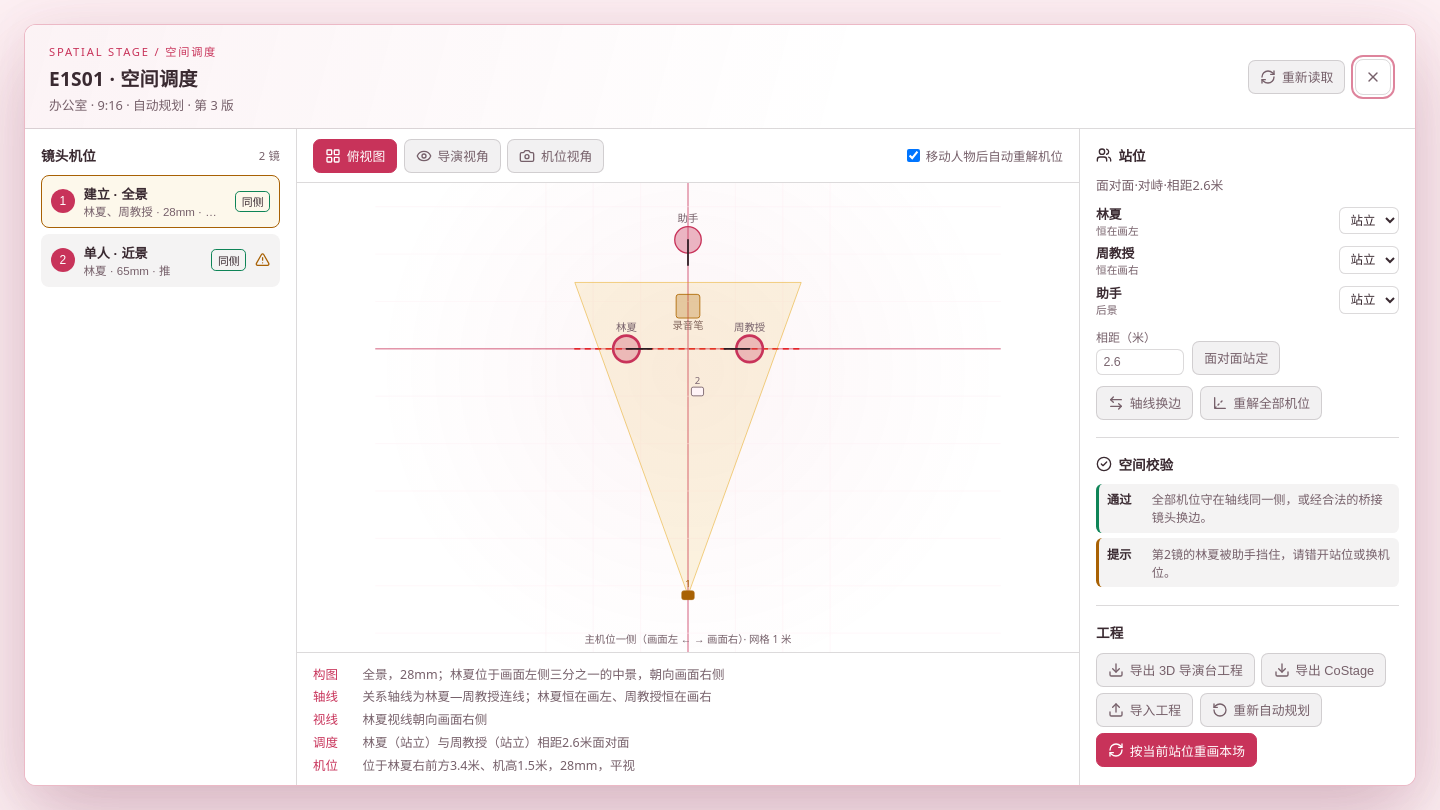
Test: SpatialStageDialog › sends semantic operations pinned to the revision it read
Expected: the picture named "E1S01 空间调度俯视图" is shown, 297,183 -> 1079,652
In the number field labelled "相距（米）": (1140, 362) 1096,349 -> 1184,375, type "1.2"
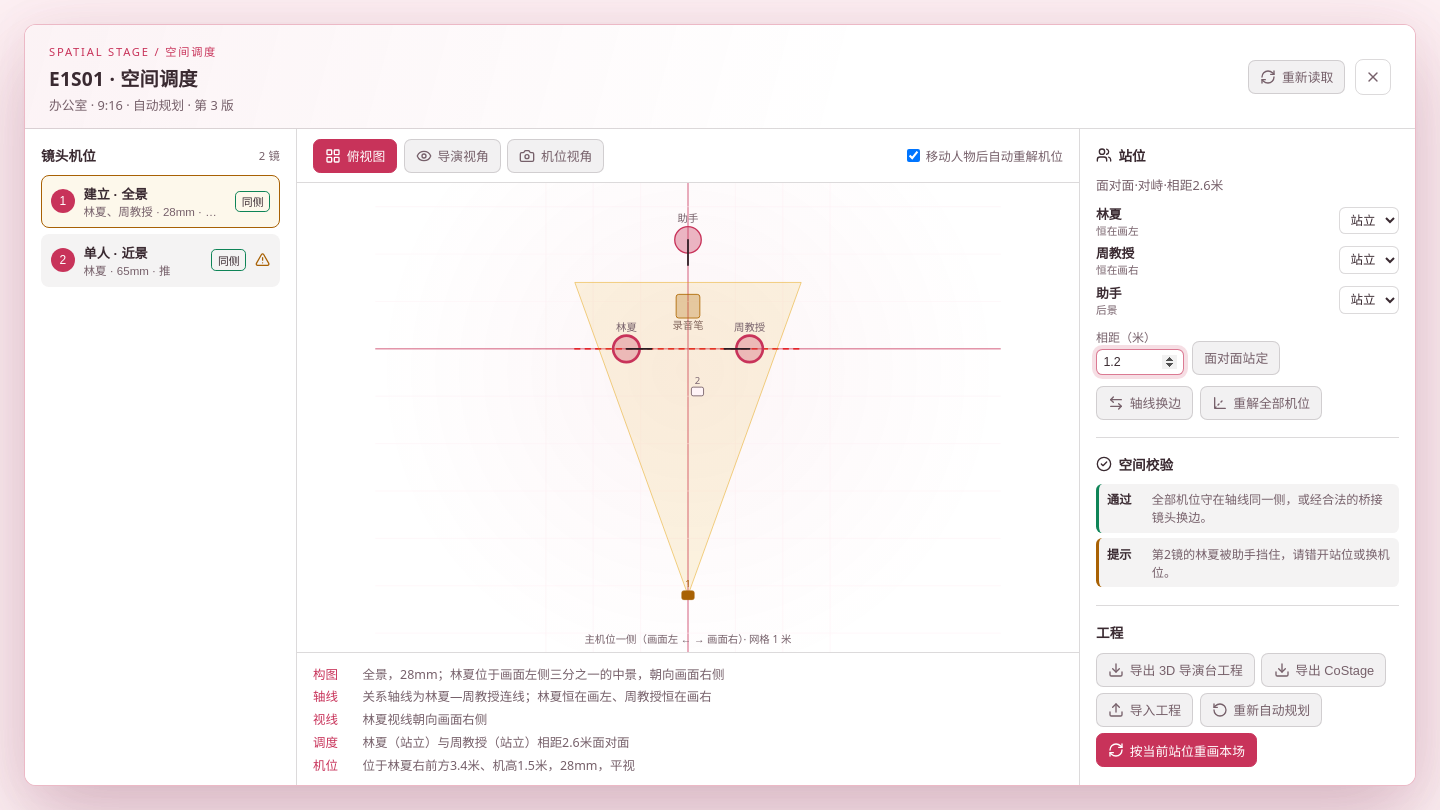
Click the button "面对面站定": (1236, 358) 1192,341 -> 1280,375
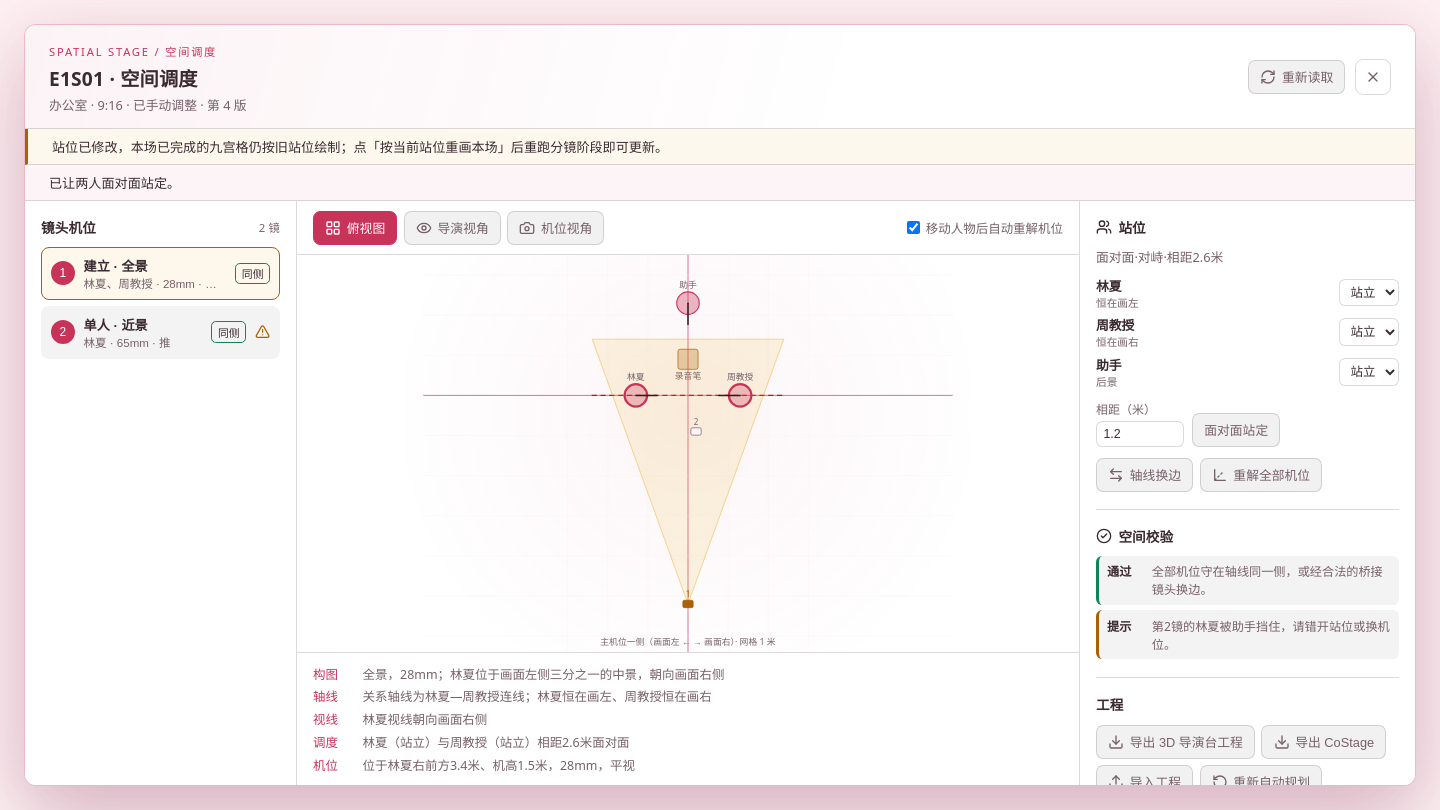
Expected: the text "站位已修改，本场已完成的九宫格仍按旧站位绘制；点「按当前站位重画本场」后重跑分镜阶段即可更新。" is shown, 25,129 -> 1415,165
Expected: the text "办公室 · 9:16 · 已手动调整 · 第 4 版" is shown, 49,95 -> 247,114
